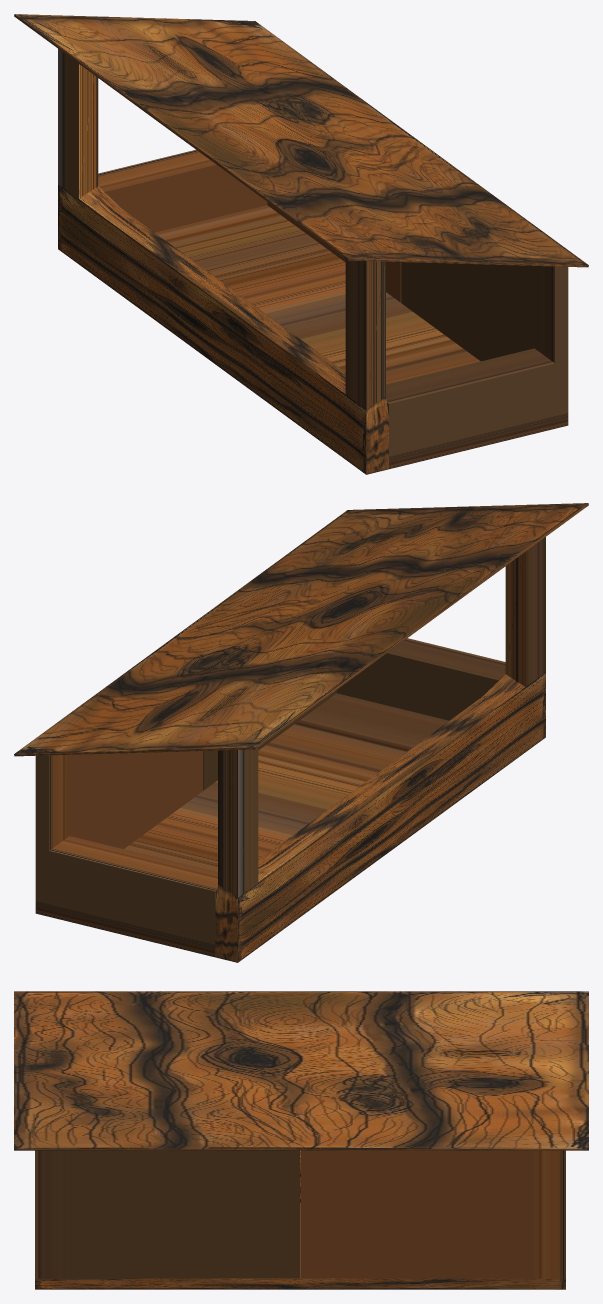
File: shopStall.fbx
The picture shows the model from 3 angles, top to bottom: view 1: azimuth 30°, elevation 25°; view 2: azimuth 150°, elevation 25°; view 3: azimuth 270°, elevation 25°; orthographic projection. The views are drawn at different scales.
Parts seen in each view (by area): view 1: Box001; view 2: Box001; view 3: Box001.
Boxes of the visible parts, x1,y1,x2,y2 form: Box001: (14,14,588,474); Box001: (14,503,588,962); Box001: (14,991,588,1289).
Bounding box in the file's own units: 67.81 × 162 × 62.5.
1 material, 1 textured.
